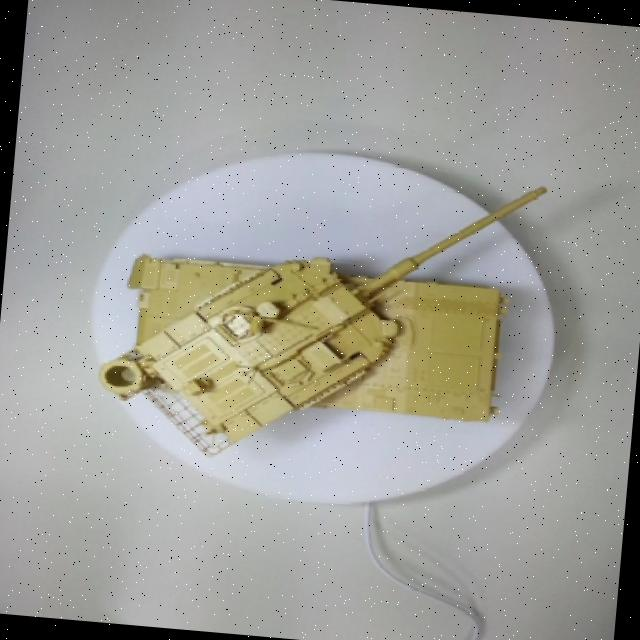korea tank: (59, 134, 623, 522)
